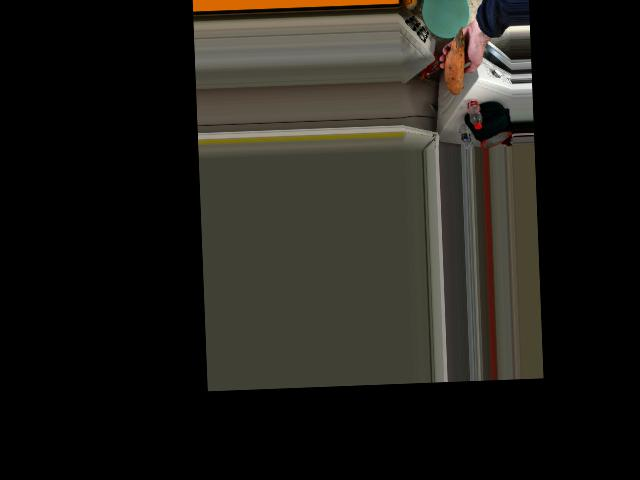sweet_potato: (443, 34, 468, 89)
